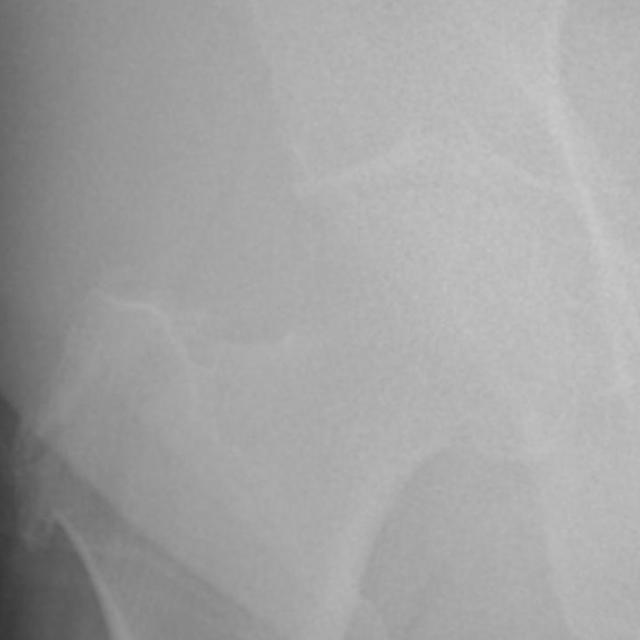Fitted_femural_head: (299, 186, 432, 299)
